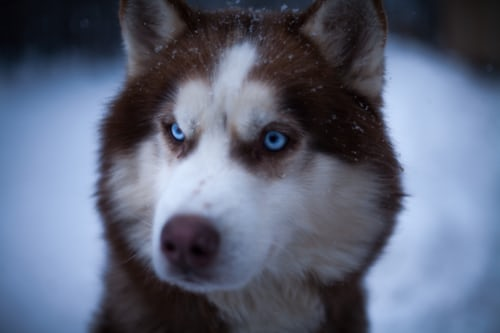husky: (97, 1, 384, 312)
